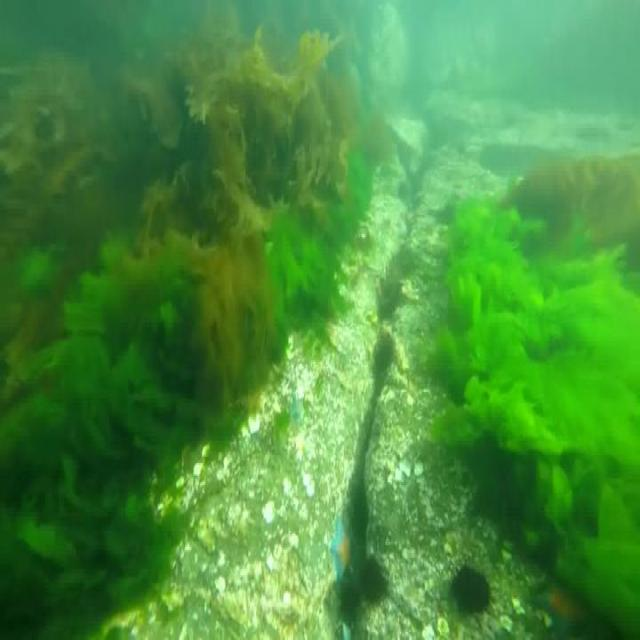echinus: (447, 562, 491, 614), (357, 556, 387, 607), (332, 574, 364, 616), (375, 338, 392, 370)
scallop: (302, 474, 316, 498), (262, 499, 275, 523), (248, 412, 260, 434), (215, 468, 229, 480)
starfish: (533, 583, 592, 640), (332, 523, 358, 577)
